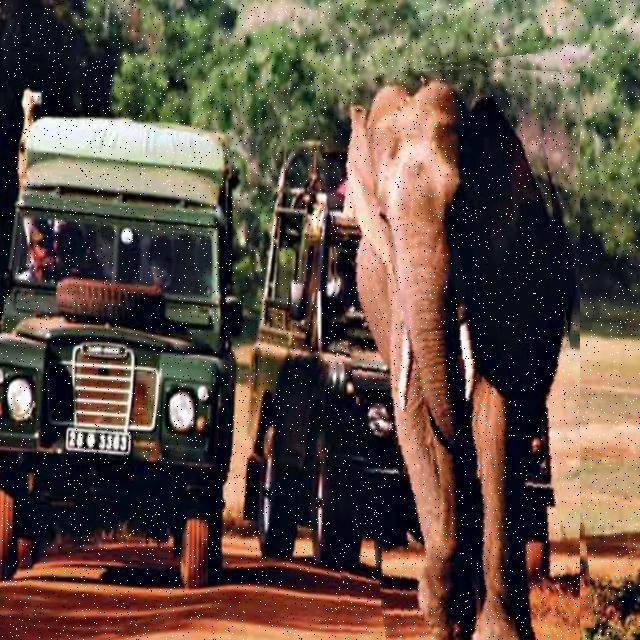elephant: (329, 58, 580, 640)
